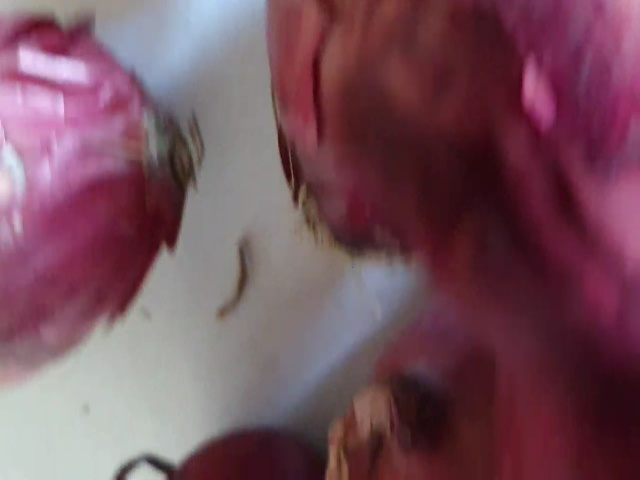red_onion: (1, 3, 208, 404), (256, 3, 499, 267)
